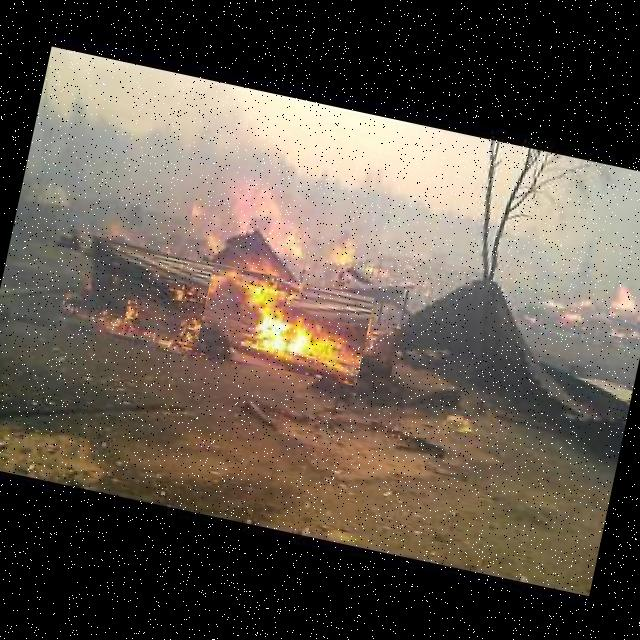fire: (194, 264, 373, 386), (184, 175, 369, 284), (607, 276, 640, 324)
